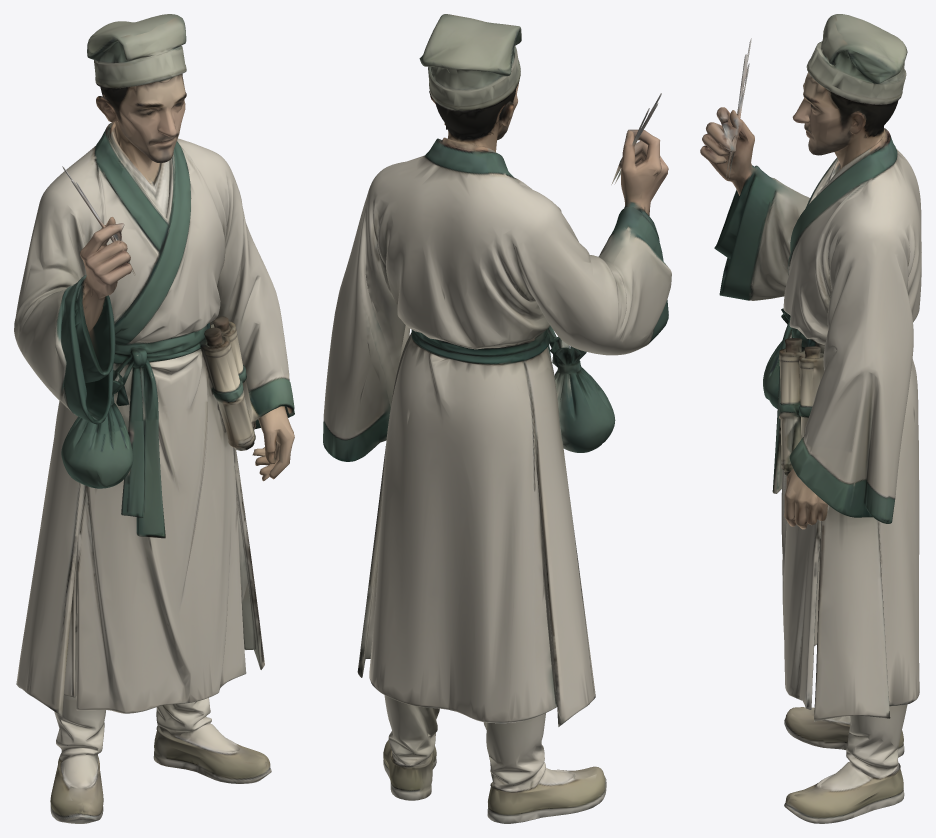
The model's file is an_daoquan_ai.glb.
The picture shows the model from 3 angles, left to right: view 1: azimuth 30°, elevation 25°; view 2: azimuth 150°, elevation 25°; view 3: azimuth 270°, elevation 25°; orthographic projection. The views are drawn at different scales.
Visible parts, largest first — view 1: node_0; view 2: node_0; view 3: node_0.
Part boxes in pixels (x1,y1,x2,y2): node_0: (14, 14, 294, 823); node_0: (323, 14, 671, 823); node_0: (700, 14, 921, 823).
Bounding box in the file's own units: 0.4511 × 1.15 × 0.3107.
Materials: 1 (1 with a texture image).
